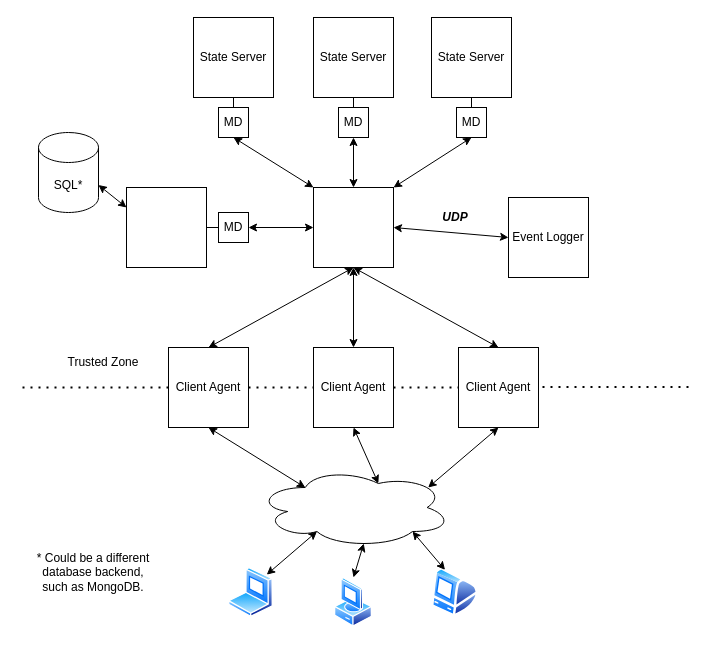
Some shapes in this 707 by 645 pixel diagram are drawn without their labels. The centre of each missing label's shape, as x and y in pixels:
(Master) Message Director: (353,227)
Database Server: (166,227)
Public Internet: (354,507)
